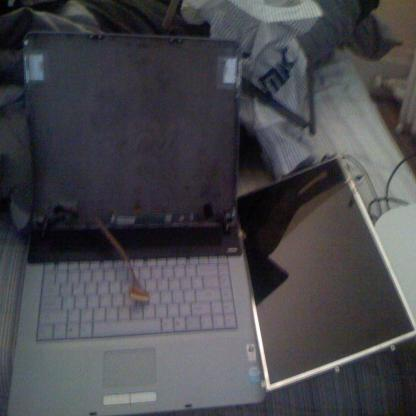board: (7, 27, 266, 416)
